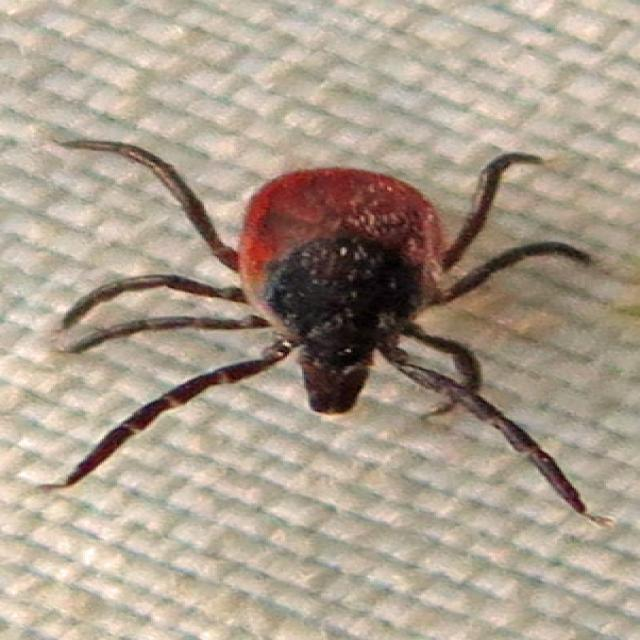Ixodes Ricinus-F: (53, 141, 591, 513)
